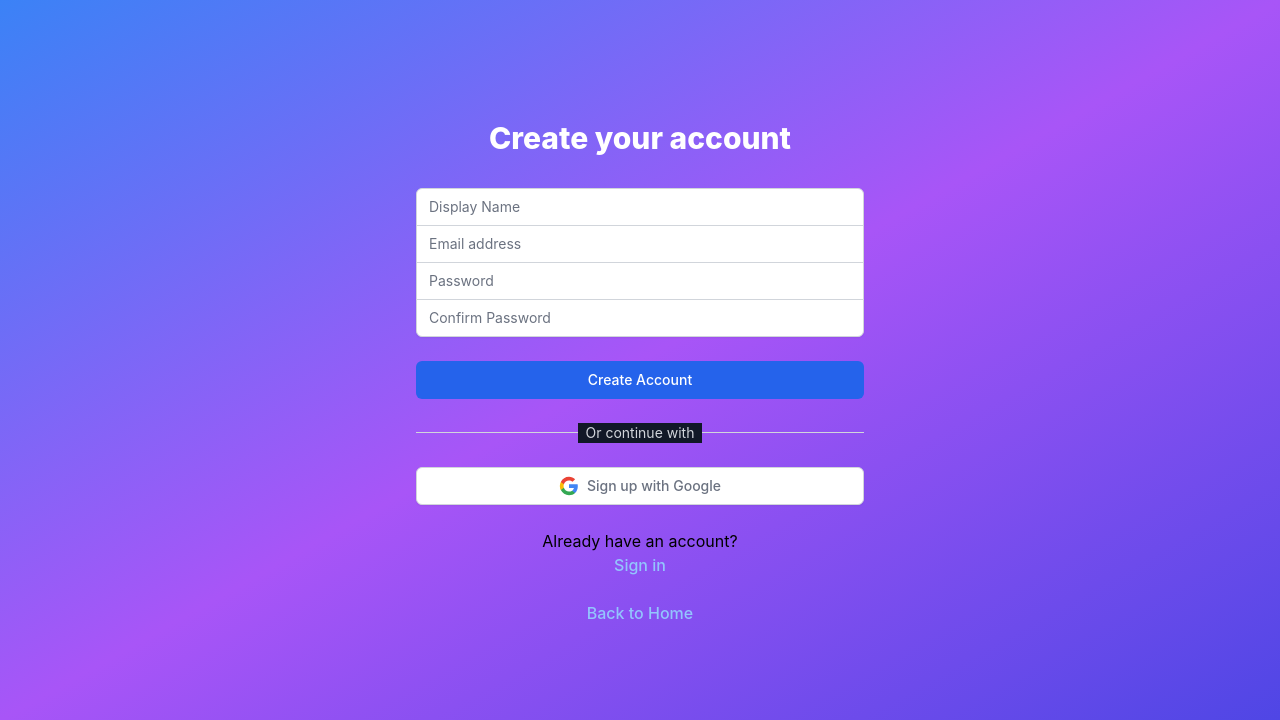
Scenario: Register Page › Form Validation › shows error for empty full name submission
Click the button "Create Account": coordinates (640, 380) [416,360,864,398]
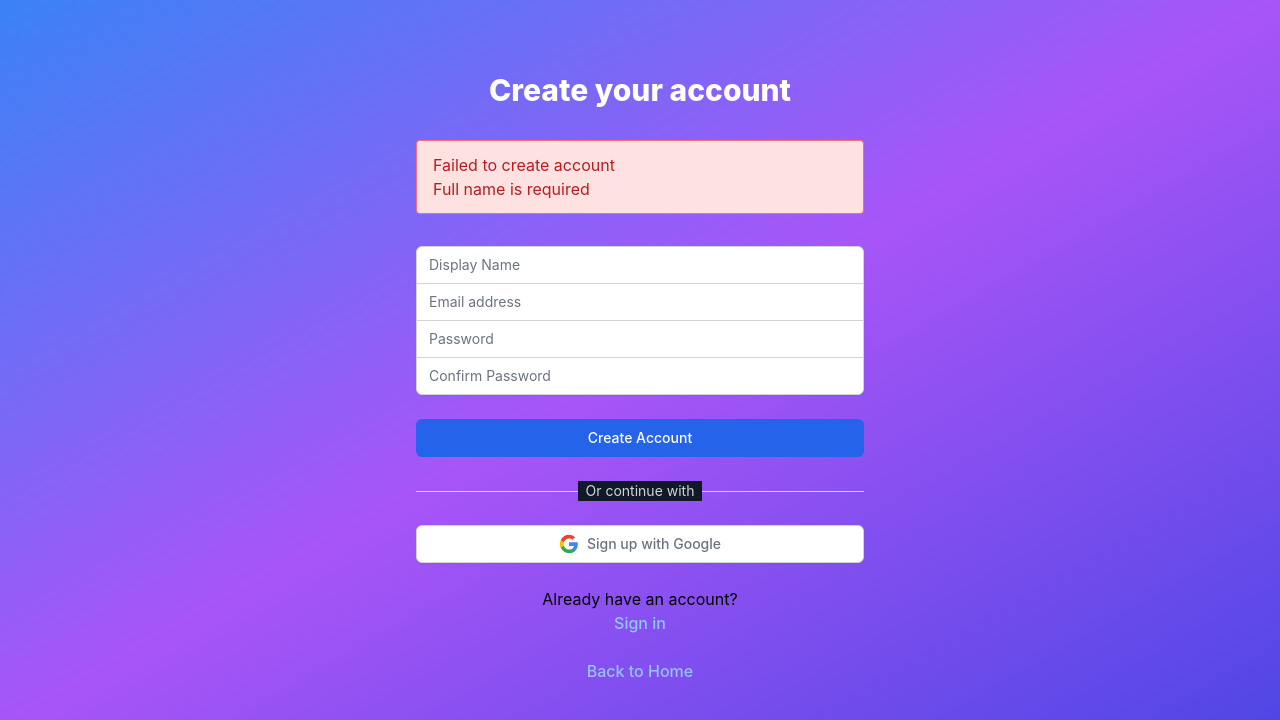
Result: the text "Failed to create account" is shown at [433,155,615,175]
Result: the text "Full name is required" is shown at [433,179,590,199]
